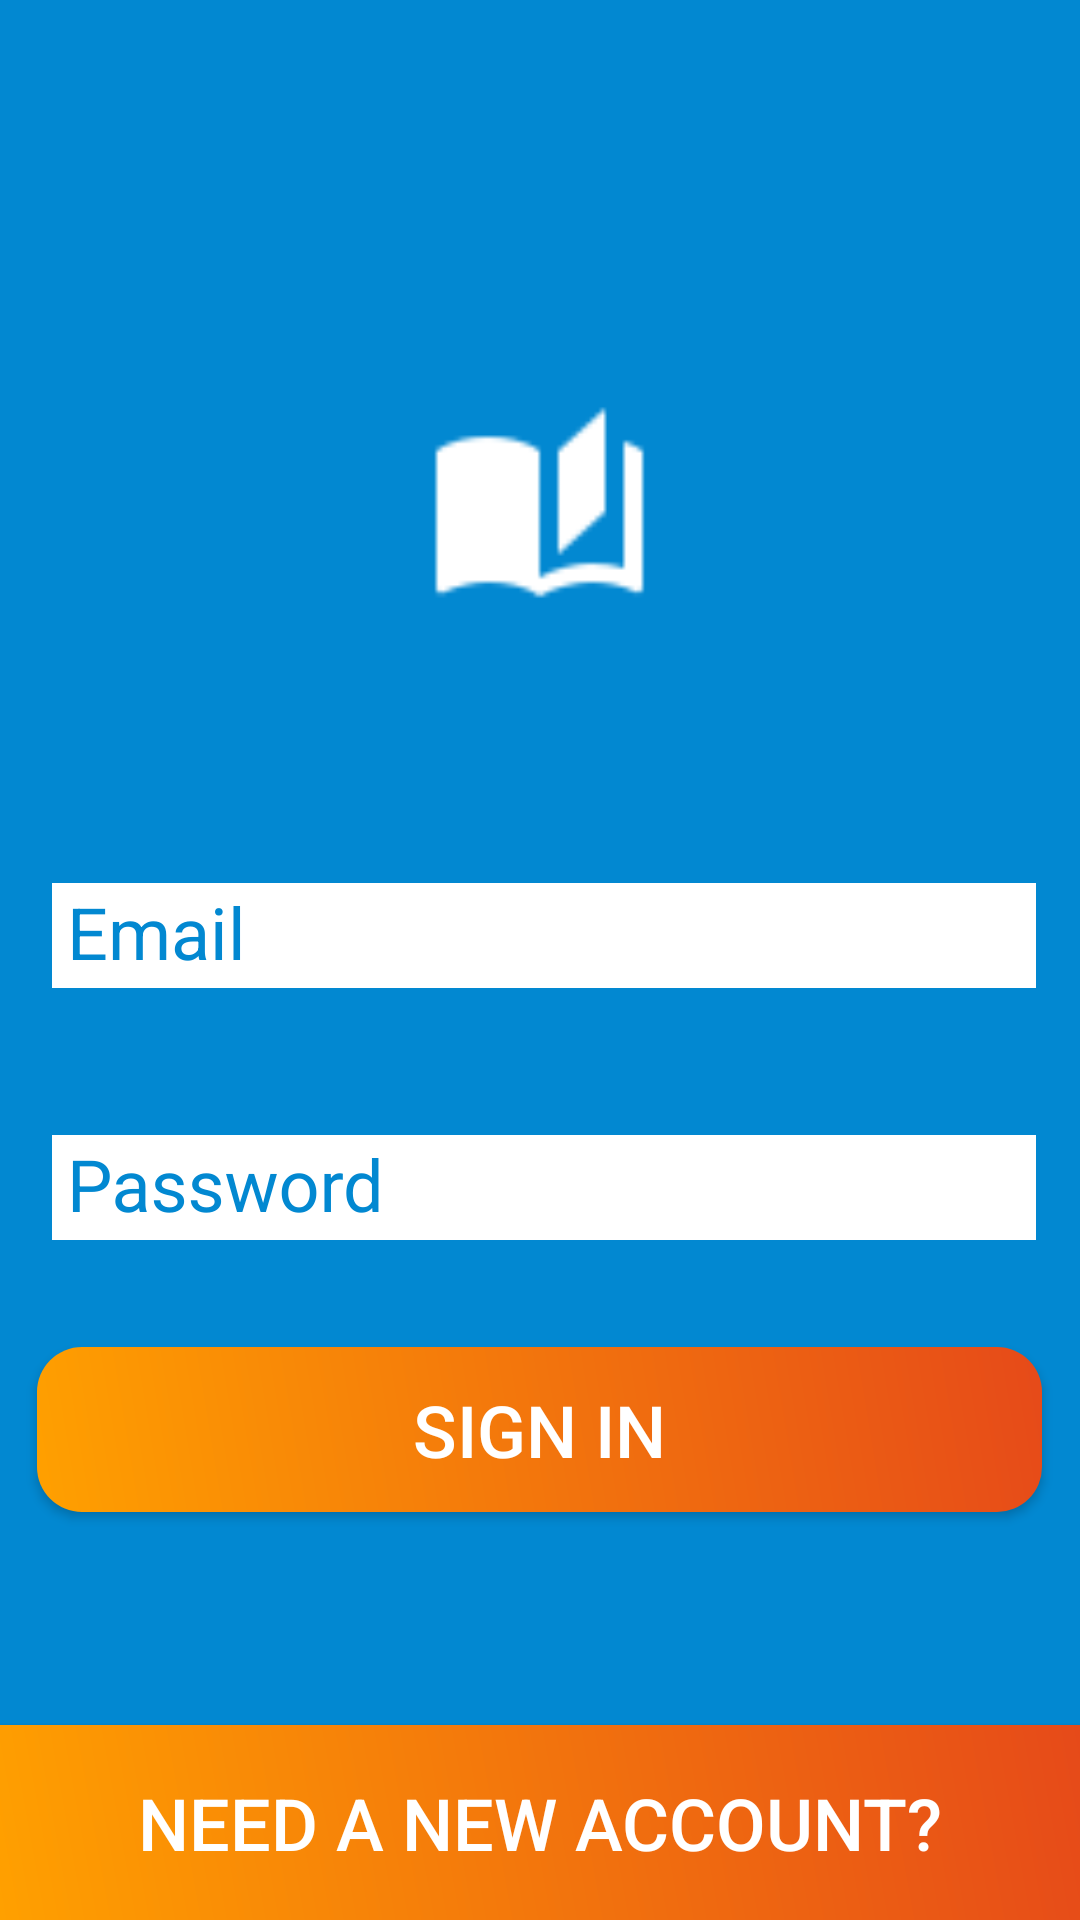

Screen size 1080w x 1920h. Icon name, then its center in pixels as [x,y]:
book: [539,502]
